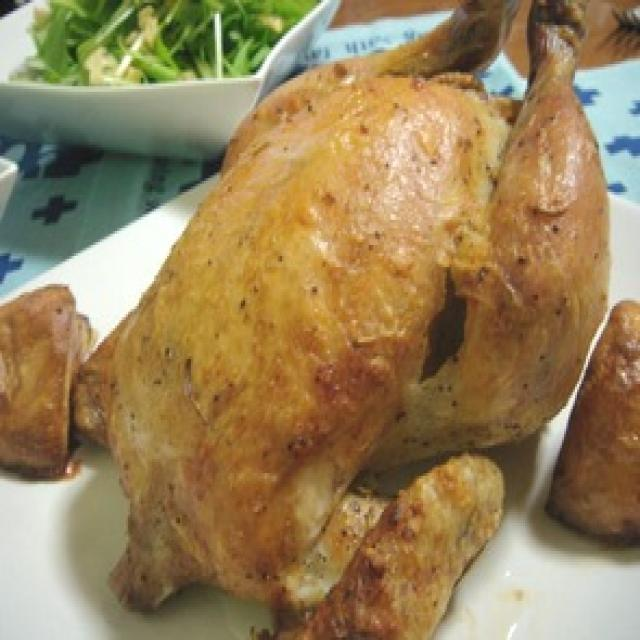Chicken: (58, 36, 632, 633)
